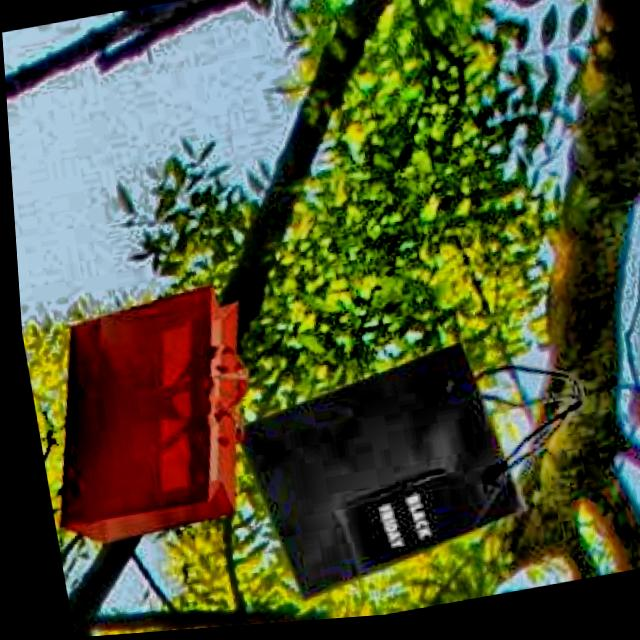Paper-bag: (173, 317, 619, 620), (23, 277, 263, 563)
